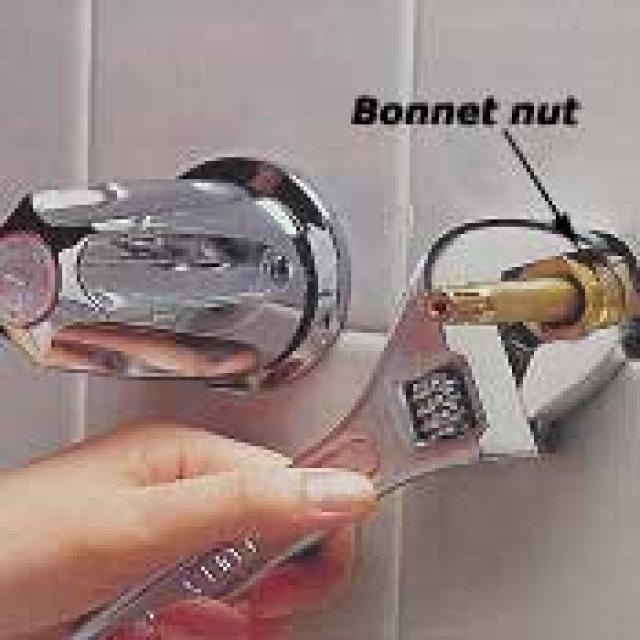wrench: (122, 208, 633, 631)
